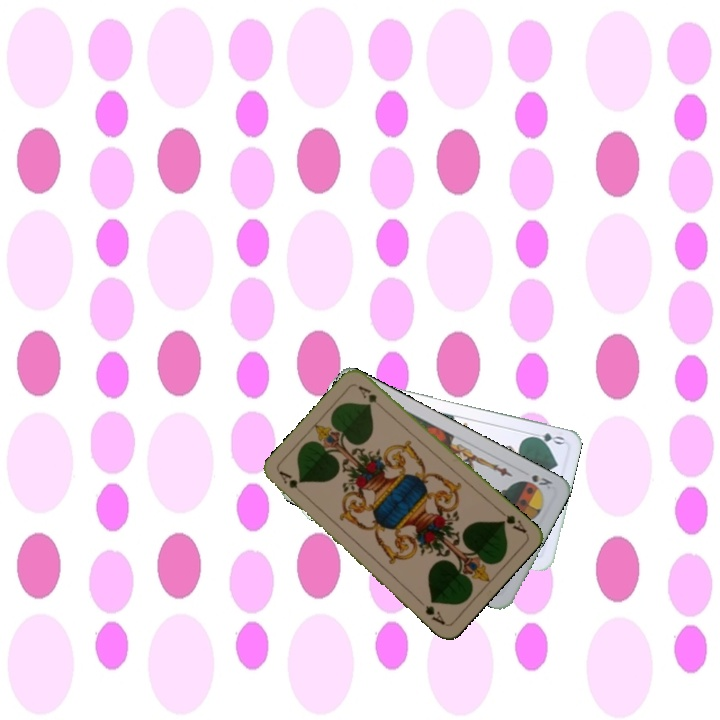GA: (494, 505, 529, 536), (275, 467, 308, 499)
GO: (525, 428, 566, 447)
SK: (528, 470, 555, 492)
